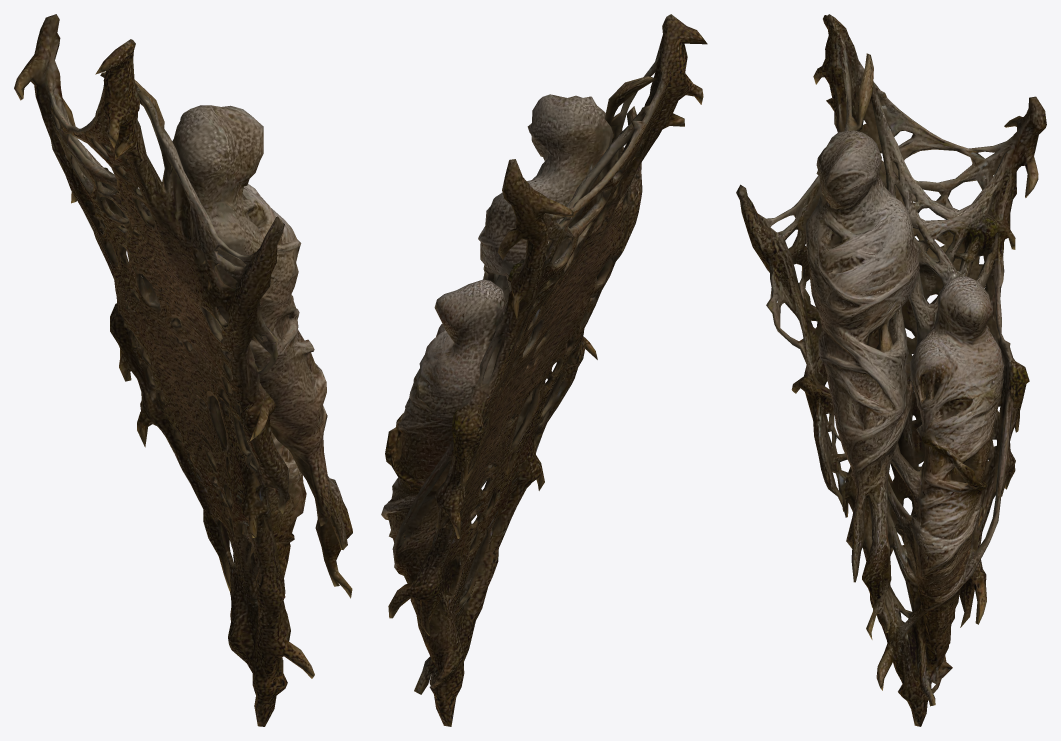
The model's file is cocooned-remains-web-mass.glb.
The picture shows the model from 3 angles, left to right: view 1: azimuth 30°, elevation 25°; view 2: azimuth 150°, elevation 25°; view 3: azimuth 270°, elevation 25°; orthographic projection. The views are drawn at different scales.
Visible parts, largest first — view 1: tripo_node_72f6cc59-b635-4837-8330-ccf87800d18d; view 2: tripo_node_72f6cc59-b635-4837-8330-ccf87800d18d; view 3: tripo_node_72f6cc59-b635-4837-8330-ccf87800d18d.
Boxes of the visible parts, x1,y1,x2,y2 form: tripo_node_72f6cc59-b635-4837-8330-ccf87800d18d: (14, 14, 352, 726); tripo_node_72f6cc59-b635-4837-8330-ccf87800d18d: (381, 14, 707, 726); tripo_node_72f6cc59-b635-4837-8330-ccf87800d18d: (736, 14, 1046, 726).
Bounding box in the file's own units: 0.386 × 1 × 0.4422.
Materials: 1 (1 with a texture image).
